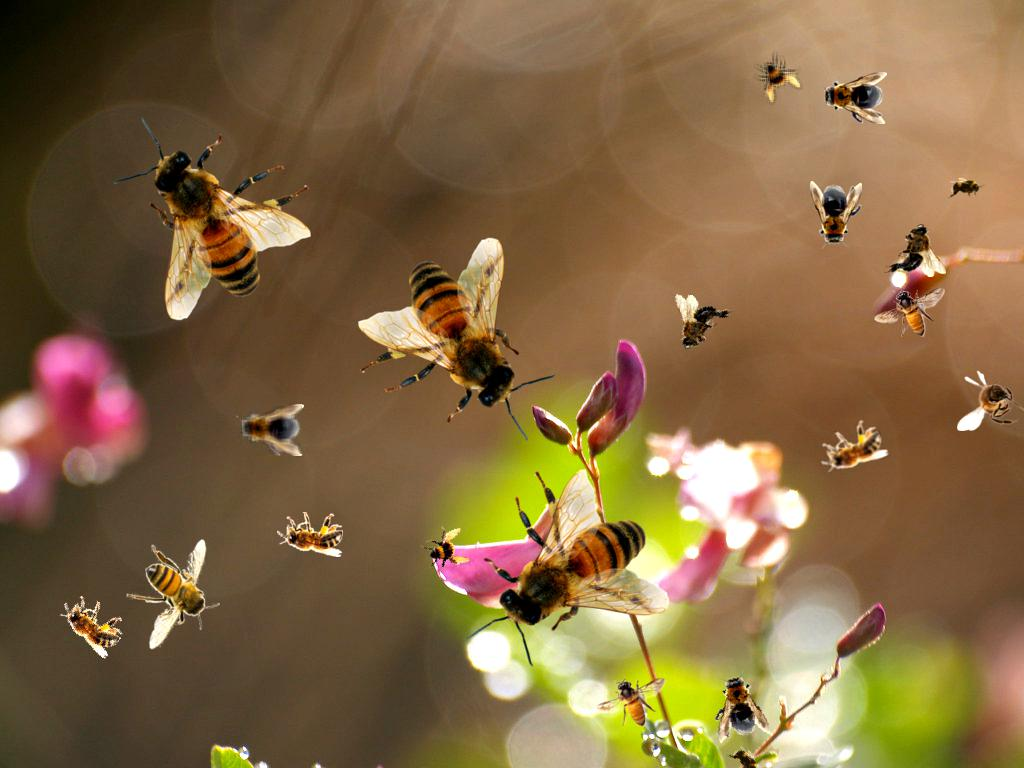Bee: (466, 469, 670, 668), (358, 237, 557, 441), (112, 117, 311, 321), (126, 539, 220, 650), (51, 586, 131, 661), (811, 414, 891, 485), (662, 290, 737, 360), (705, 667, 771, 745), (957, 370, 1024, 431), (747, 46, 809, 108), (595, 677, 666, 727), (874, 287, 945, 337), (819, 72, 887, 124), (810, 181, 862, 249), (236, 404, 304, 456), (416, 520, 474, 578), (884, 224, 946, 277), (277, 512, 343, 557), (724, 739, 768, 768), (946, 177, 986, 199)
